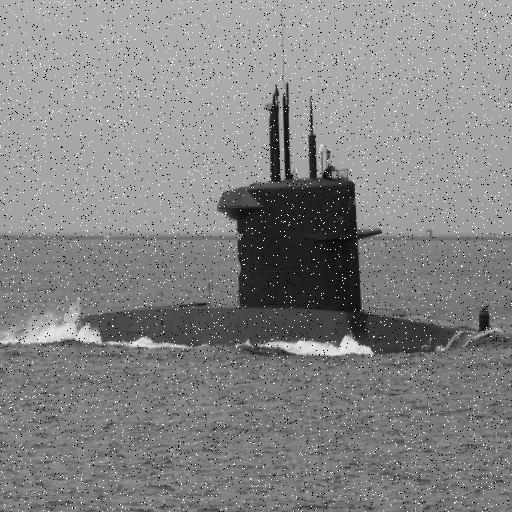submarine: (1, 80, 507, 348)
